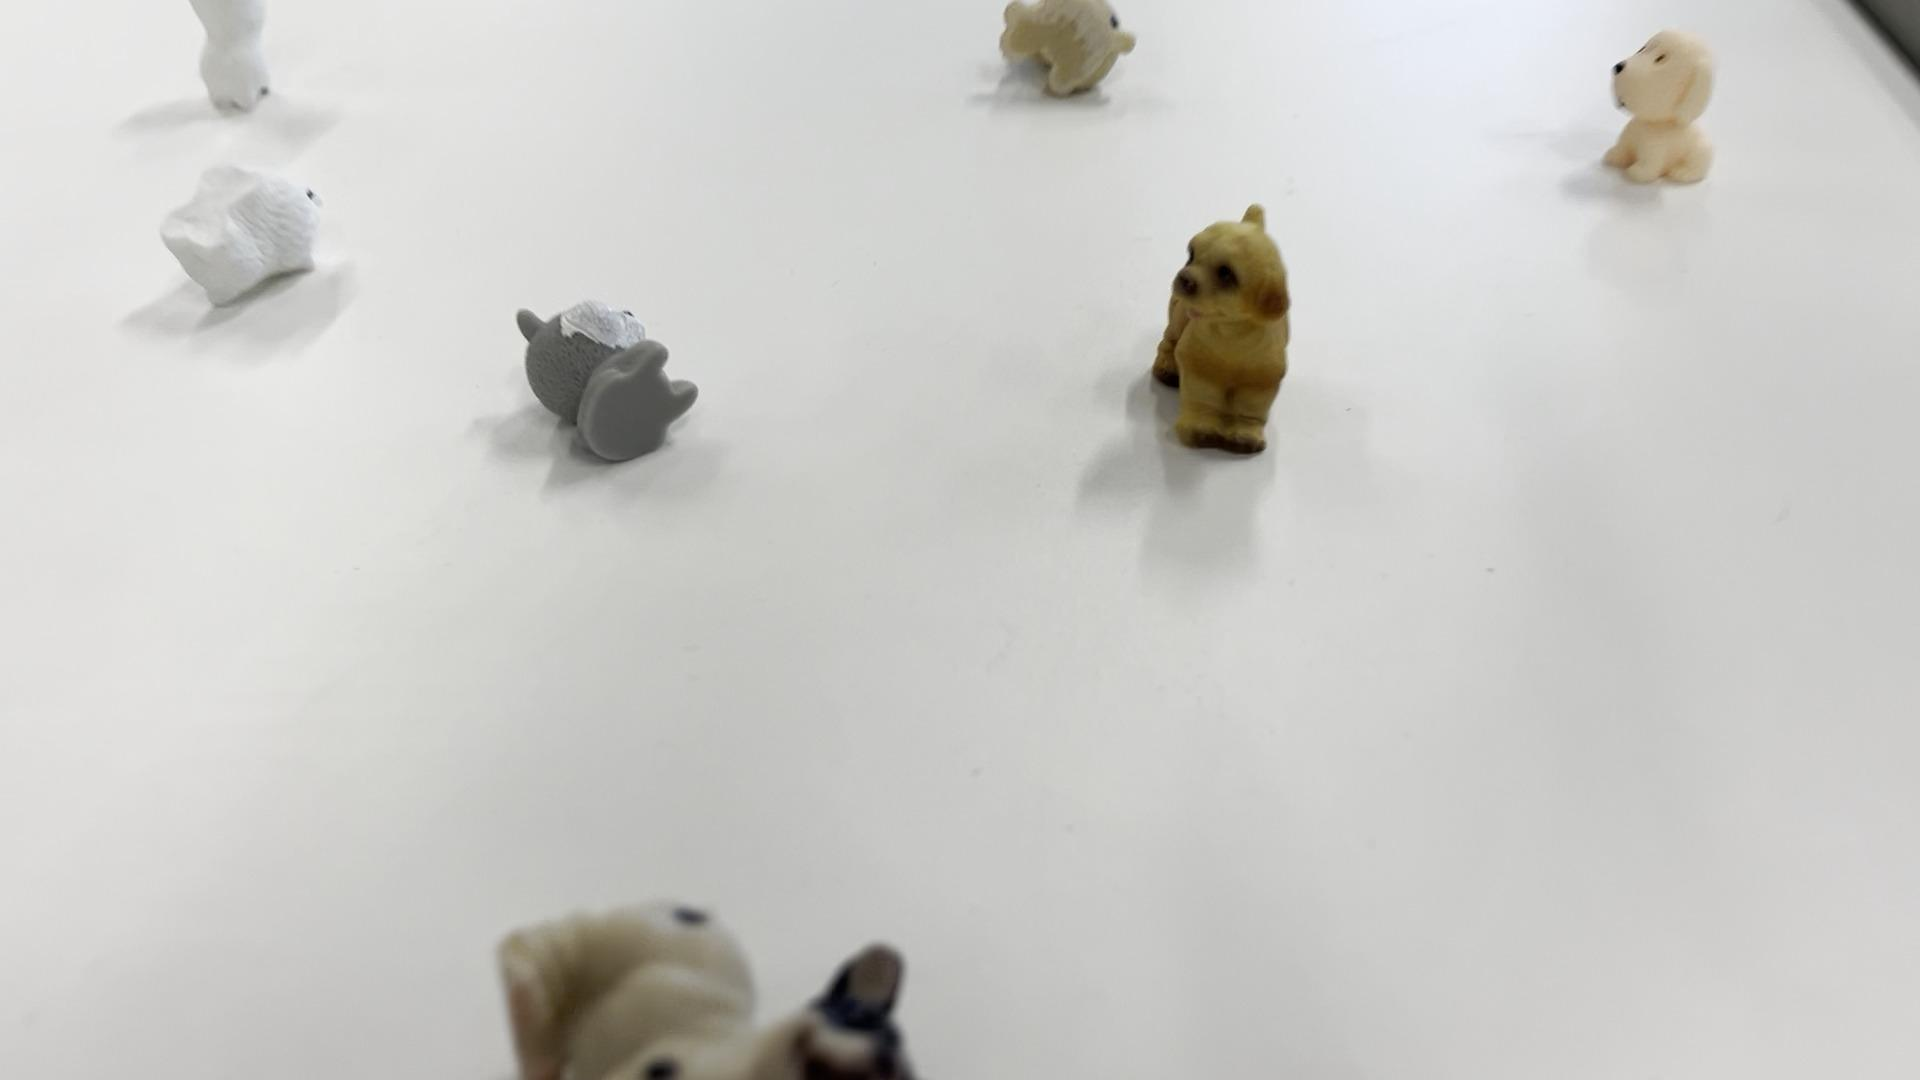pet: (484, 882, 939, 1080), (1145, 189, 1320, 473), (495, 289, 703, 481), (161, 145, 327, 319), (1598, 22, 1718, 199), (972, 0, 1167, 102)
